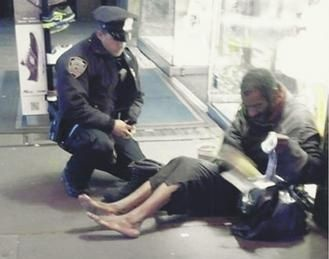falling: (80, 66, 311, 243)
